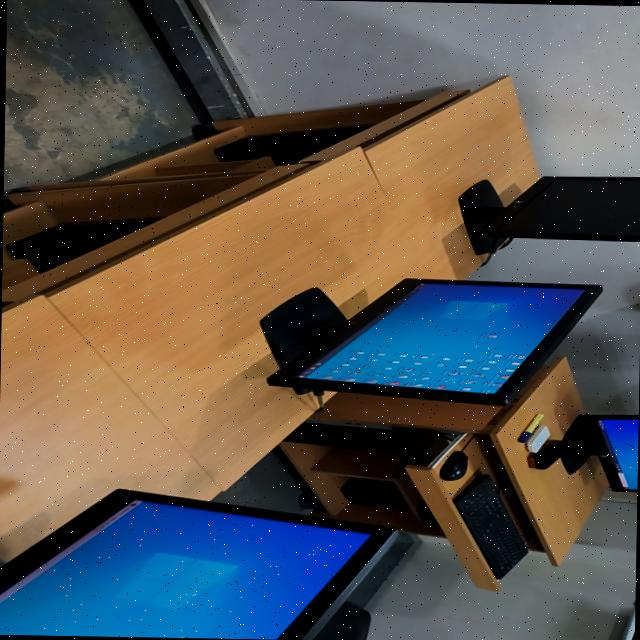Cpu: (6, 218, 157, 272), (215, 126, 367, 165), (284, 421, 430, 453)
Keyboard: (452, 475, 526, 579), (439, 451, 466, 480)
Monitor: (0, 490, 396, 640), (264, 279, 600, 405), (459, 176, 640, 253), (558, 415, 638, 492)
